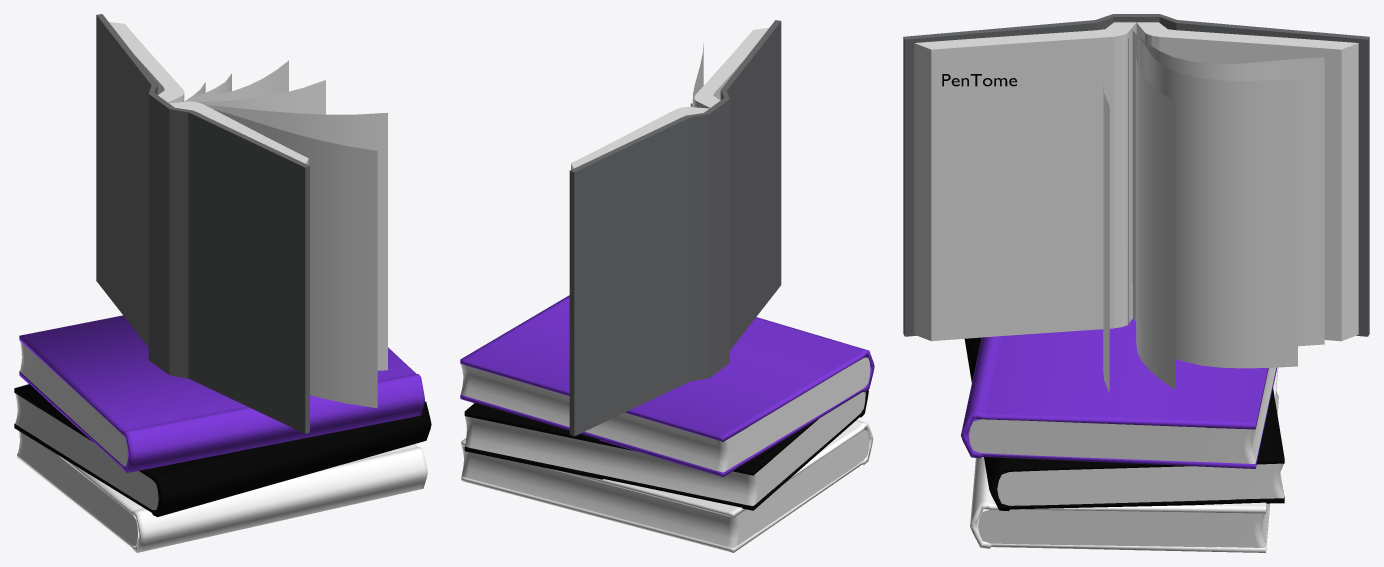
File: book.glb
The picture shows the model from 3 angles, left to right: view 1: azimuth 30°, elevation 25°; view 2: azimuth 150°, elevation 25°; view 3: azimuth 270°, elevation 25°; orthographic projection. The views are drawn at different scales.
Parts seen in each view (by area): view 1: Cube.004, BézierCurve.004, Cube.006, Cube.001, Cube.008, Cube.005, Cube.003, Cube.007, Cube.009; view 2: Cube.004, Cube.006, Cube.003, Cube.005, Cube.007, Cube.008, Cube.001, Cube.009; view 3: Cube.009, BézierCurve.004, Cube.006, Cube.004, Cube.007, Cube.003, Cube.005, Cube.008, Cube.001.
Boxes of the visible parts, left/top/right/bottom form: Cube.004: left=96, top=14, right=309, bottom=433; BézierCurve.004: left=184, top=60, right=387, bottom=408; Cube.006: left=19, top=315, right=424, bottom=472; Cube.001: left=17, top=444, right=427, bottom=552; Cube.008: left=14, top=384, right=431, bottom=517; Cube.005: left=15, top=393, right=158, bottom=510; Cube.003: left=18, top=431, right=137, bottom=545; Cube.007: left=20, top=341, right=127, bottom=465; Cube.009: left=109, top=21, right=308, bottom=164; Cube.004: left=569, top=20, right=781, bottom=436; Cube.006: left=460, top=295, right=874, bottom=476; Cube.003: left=461, top=430, right=869, bottom=548; Cube.005: left=465, top=392, right=865, bottom=505; Cube.007: left=461, top=357, right=870, bottom=472; Cube.008: left=464, top=389, right=868, bottom=510; Cube.001: left=461, top=420, right=873, bottom=552; Cube.009: left=571, top=27, right=768, bottom=169; Cube.009: left=914, top=22, right=1358, bottom=341; BézierCurve.004: left=1103, top=31, right=1324, bottom=393; Cube.006: left=961, top=319, right=1276, bottom=468; Cube.004: left=903, top=14, right=1369, bottom=336; Cube.007: left=969, top=367, right=1275, bottom=463; Cube.003: left=978, top=392, right=1278, bottom=547; Cube.005: left=997, top=463, right=1283, bottom=505; Cube.008: left=964, top=337, right=1284, bottom=511; Cube.001: left=970, top=367, right=1278, bottom=552.
Bounding box in the file's own units: 2.14 × 2.61 × 2.58.
